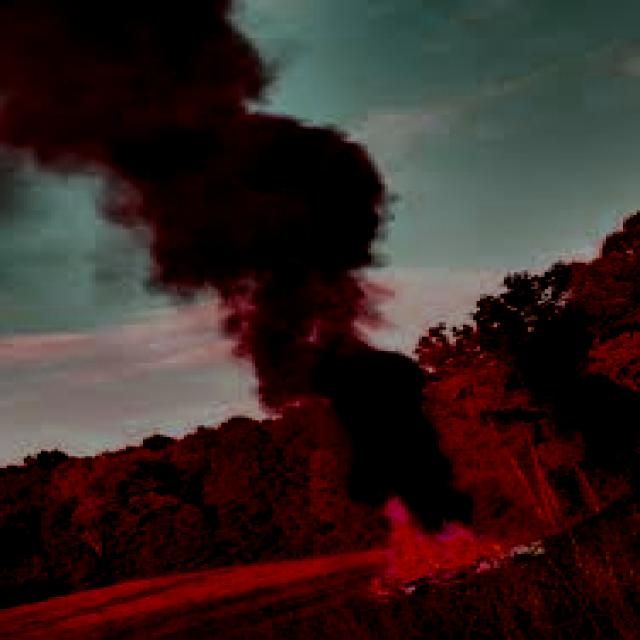fire: (357, 473, 514, 590)
